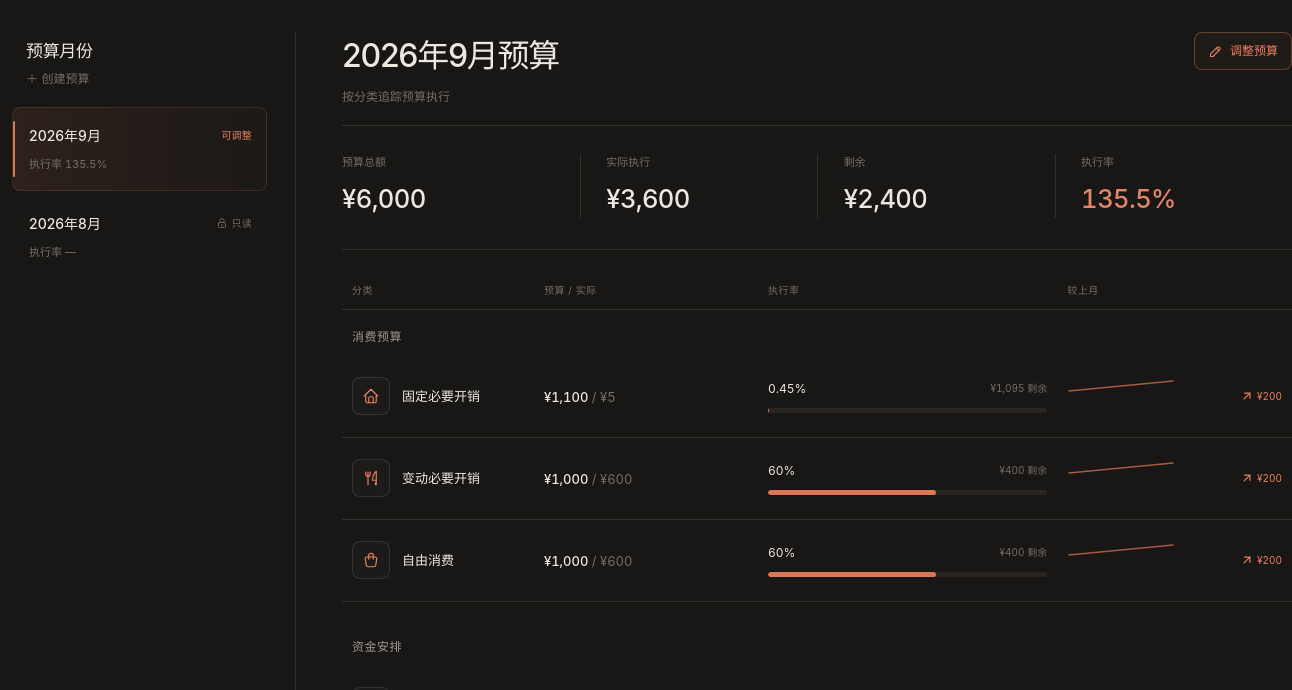
Test: BudgetPage › switches a previous month into a read-only budget view
Click the button "2026年8月 只读 执行率 —" at (140, 236), box [12,194,267,278]
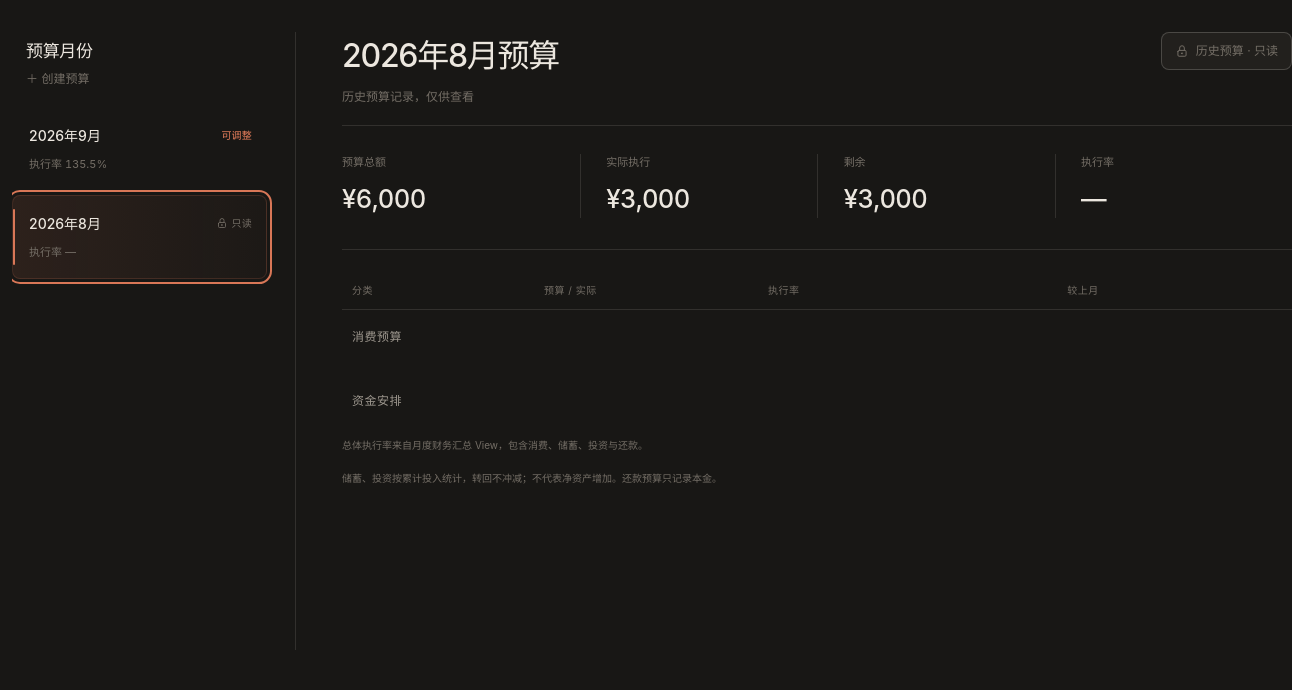
Expected: the text "只读" is shown, [216,216,252,230]
Expected: the heading "2026年8月预算" is shown, [342,32,559,80]
Expected: the link "调整预算" is gone
